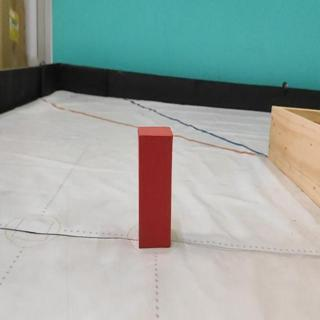redbox: (137, 125, 174, 249)
